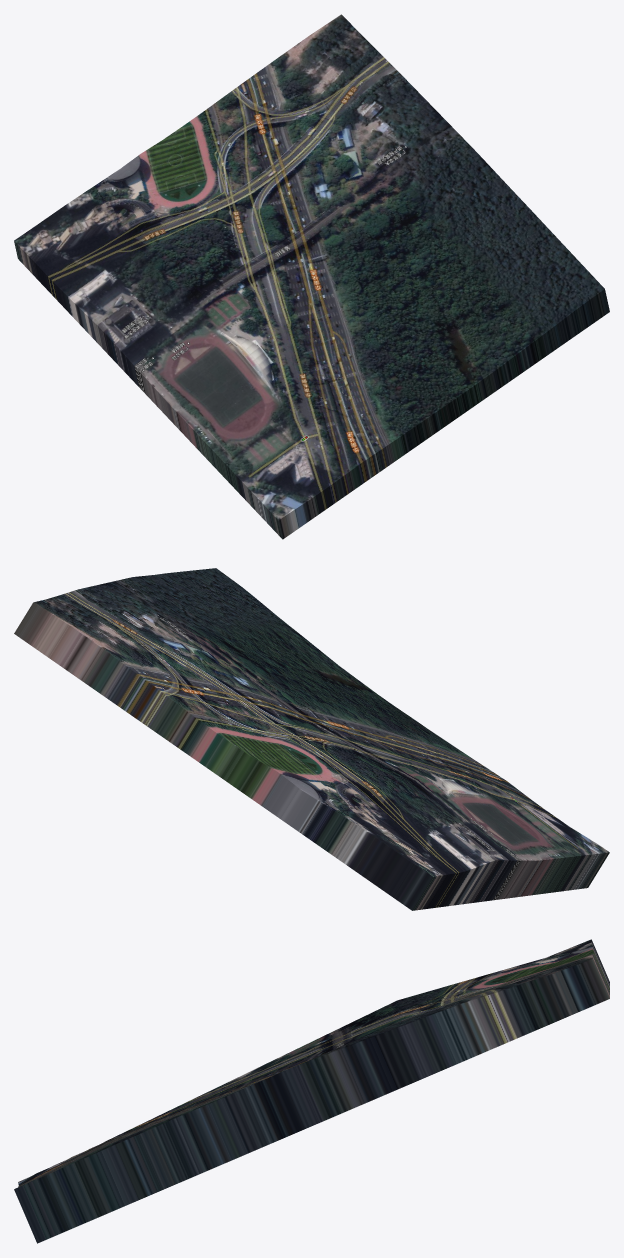
The picture shows the model from 3 angles, top to bottom: view 1: azimuth 30°, elevation 25°; view 2: azimuth 150°, elevation 25°; view 3: azimuth 270°, elevation 25°; orthographic projection. The views are drawn at different scales.
Visible parts, largest first — view 1: 0_4_29; view 2: 0_4_29; view 3: 0_4_29.
Part boxes in pixels (x1,y1,x2,y2): 0_4_29: [14, 14, 609, 539]; 0_4_29: [14, 568, 609, 910]; 0_4_29: [14, 939, 609, 1243].
Bounding box in the file's own units: 608 × 463 × 564.
1 material, 1 textured.
